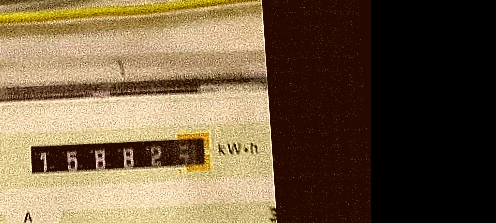1: (36, 148, 51, 171)
2: (147, 143, 164, 168)
5: (64, 147, 79, 172)
7: (177, 148, 190, 166)
8: (120, 145, 135, 170), (92, 147, 106, 171)
screen: (20, 123, 220, 191)
